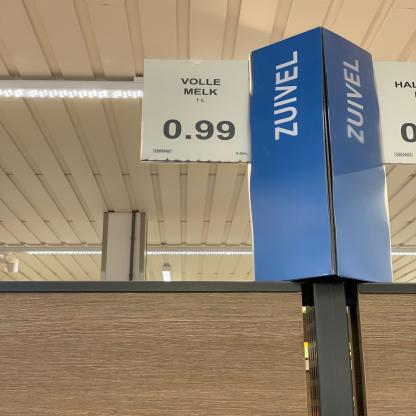prtg: (141, 59, 250, 164), (373, 63, 415, 167)
